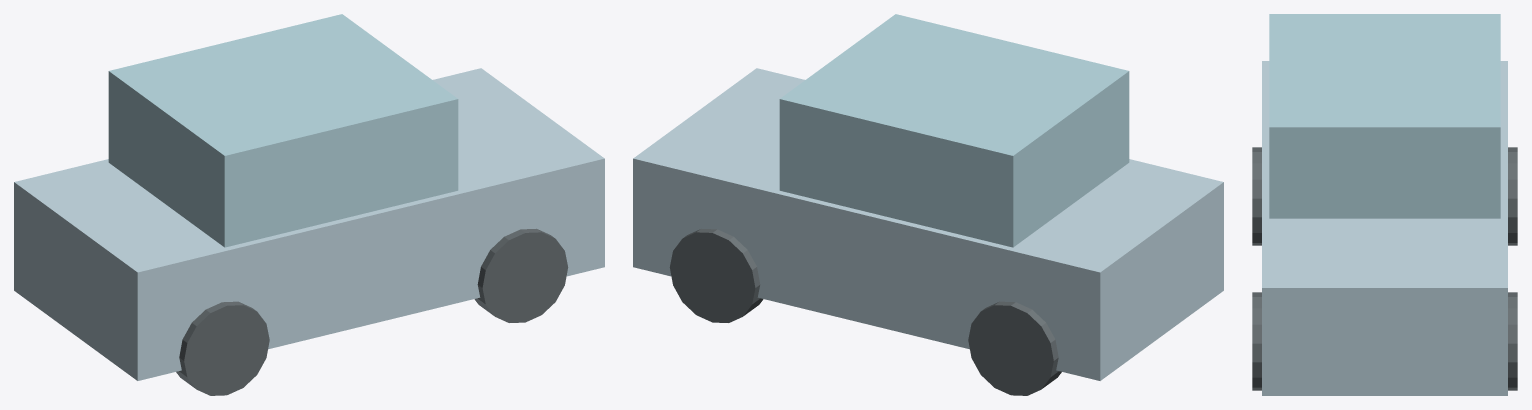
Rendered from vehicle_compact.glb.
3 renders of one model, left to right at view 1: azimuth 30°, elevation 25°; view 2: azimuth 150°, elevation 25°; view 3: azimuth 270°, elevation 25°, orthographic.
Parts seen in each view (by area): view 1: part_00, part_01, part_03, part_05; view 2: part_00, part_01, part_02, part_04; view 3: part_01, part_00, part_02, part_03, part_04, part_05.
Boxes of the visible parts, x1,y1,x2,y2 form: part_00: (14, 68, 604, 380); part_01: (108, 14, 458, 247); part_03: (176, 301, 269, 395); part_05: (474, 228, 568, 322); part_00: (633, 68, 1223, 380); part_01: (779, 14, 1129, 247); part_02: (968, 301, 1061, 395); part_04: (669, 228, 763, 322); part_01: (1269, 14, 1500, 218); part_00: (1262, 61, 1507, 395); part_02: (1508, 147, 1517, 245); part_03: (1252, 147, 1261, 245); part_04: (1508, 292, 1517, 390); part_05: (1252, 292, 1261, 390).
Size of the model in its own units: 3.6 by 1.71 by 1.78.
